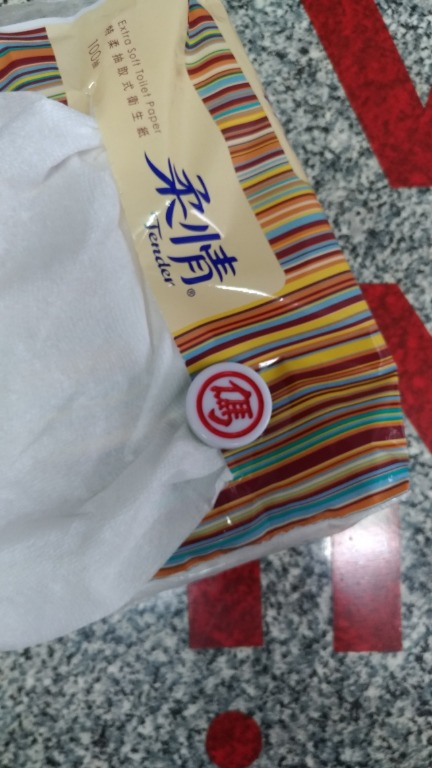r-knight: (183, 353, 292, 460)
